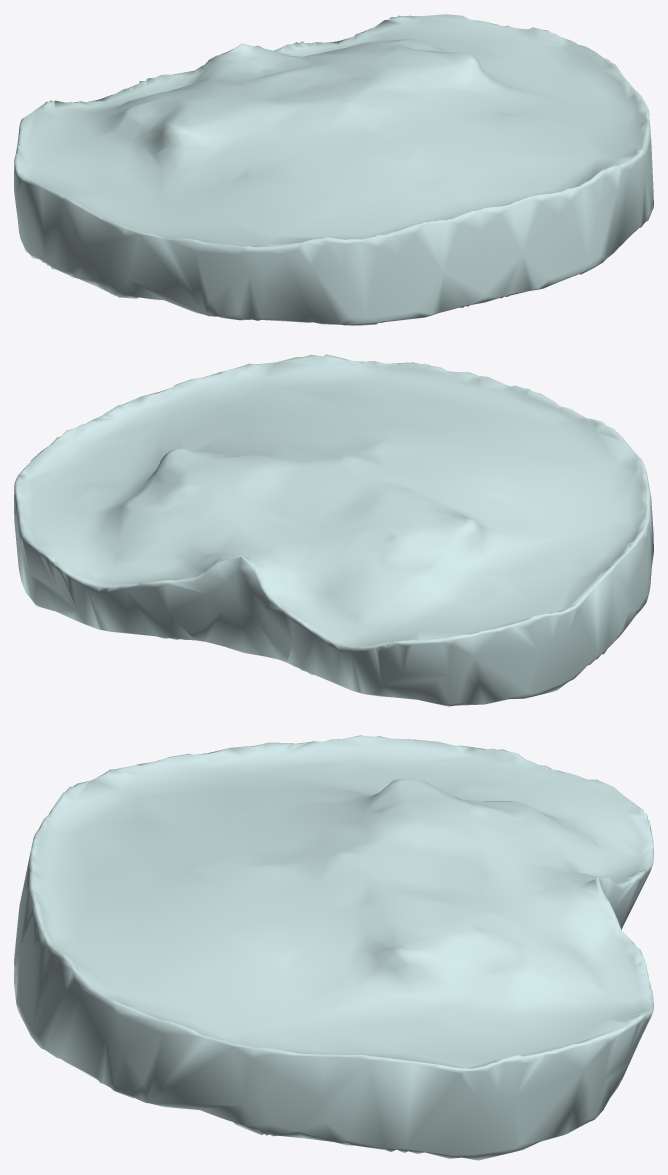
Rendered from Intervertebral_disc_L2-L3_Generated_Mesh_From_X3D.090.glb.
3 views of the same model, one above another, from view 1: azimuth 30°, elevation 25°; view 2: azimuth 150°, elevation 25°; view 3: azimuth 270°, elevation 25° (orthographic). The views are drawn at different scales.
Parts seen in each view (by area): view 1: Intervertebral_disc_L2-L3_Generated_Mesh_From_X3D.090; view 2: Intervertebral_disc_L2-L3_Generated_Mesh_From_X3D.090; view 3: Intervertebral_disc_L2-L3_Generated_Mesh_From_X3D.090.
Part boxes in pixels (<box>): Intervertebral_disc_L2-L3_Generated_Mesh_From_X3D.090: <box>14,14,653,325</box>; Intervertebral_disc_L2-L3_Generated_Mesh_From_X3D.090: <box>14,354,653,706</box>; Intervertebral_disc_L2-L3_Generated_Mesh_From_X3D.090: <box>14,735,653,1160</box>.
Bounding box in the file's own units: 0.0459 × 0.0103 × 0.0383.
